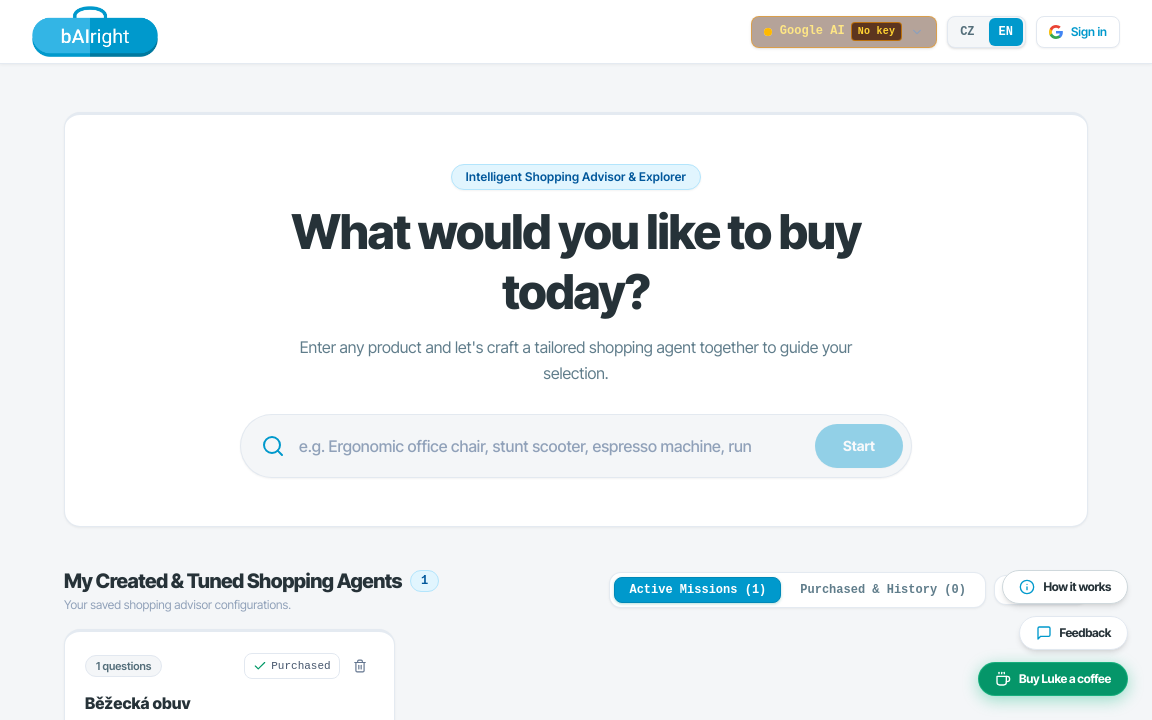
Test: Agent Discussion Gating & Subscription Paywall (PRD v1) › 1. Hides top navigation tab on clean homepage, renders when agent is active
Note: Select/launch an agent from the homepage cards via Launch / Spustit button or card
Step 1. Click the heading "Běžecká obuv" → (138, 703), box [85,693,190,713]
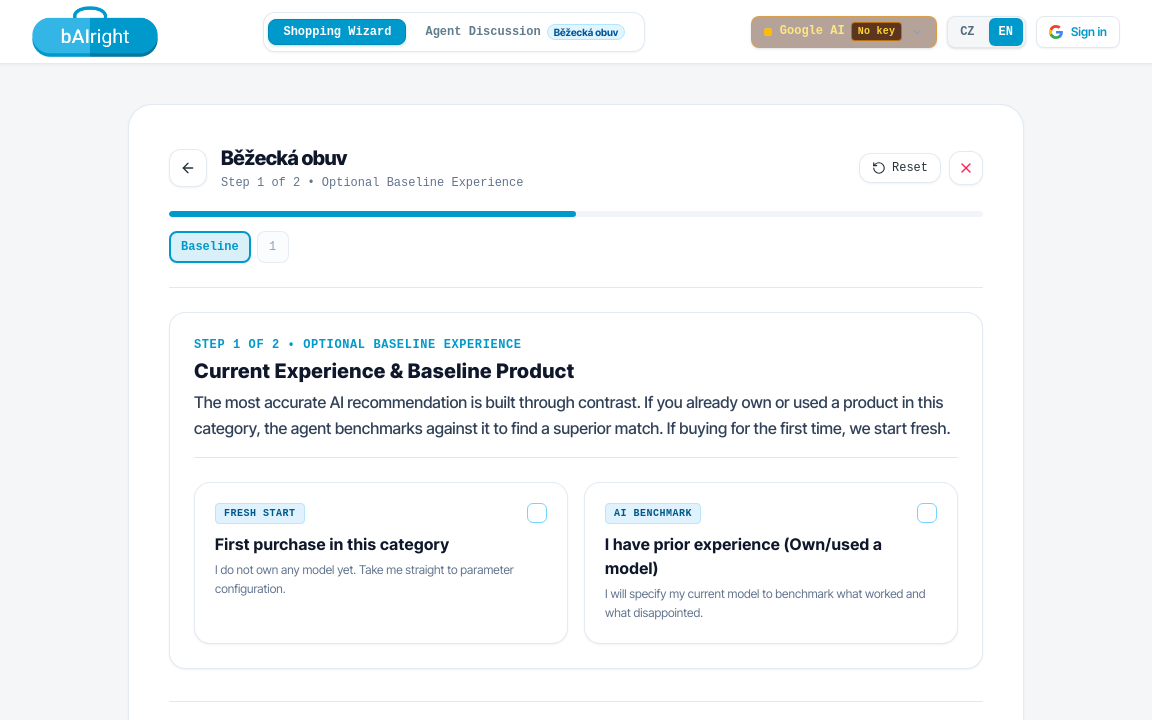
Result: the button "Agent Discussion Běžecká obuv" is shown at [410,16,640,46]
